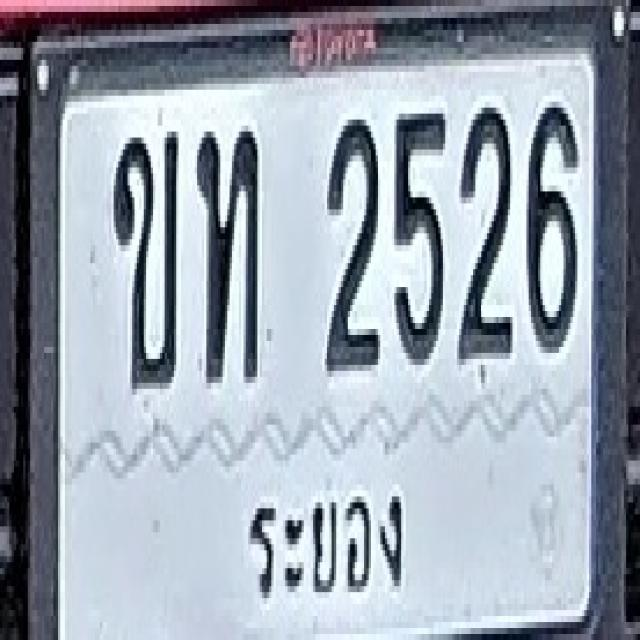2: (458, 102, 511, 359), (326, 114, 379, 370)
5: (393, 105, 444, 362)
6: (526, 102, 578, 347)
A02: (112, 128, 178, 386)
A23: (197, 125, 257, 382)
RYG: (235, 474, 414, 615)
